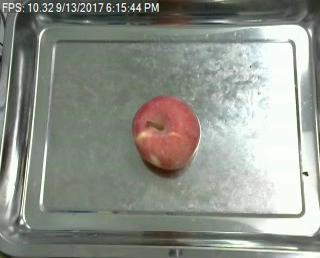apple: (131, 95, 202, 171)
